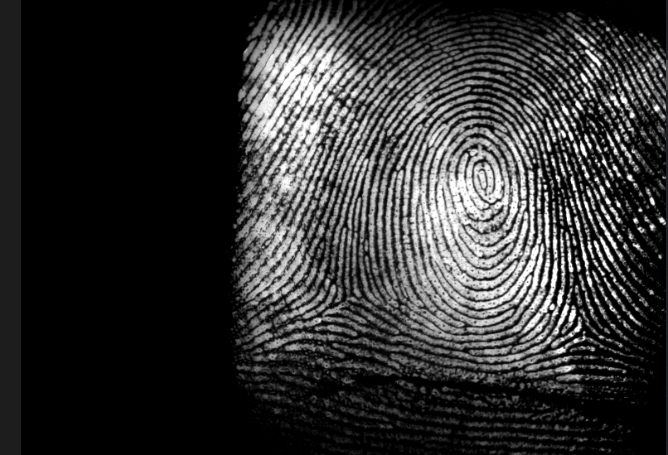deltas: (547, 294, 618, 364), (320, 265, 382, 335)
nucleo: (446, 143, 519, 216)
